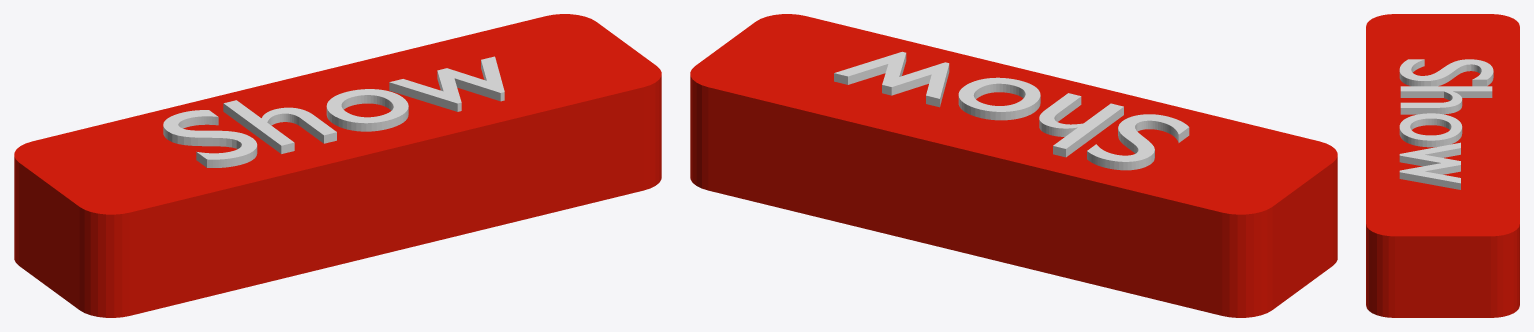
File: show_button.fbx
3 renders of one model, left to right at view 1: azimuth 30°, elevation 25°; view 2: azimuth 150°, elevation 25°; view 3: azimuth 270°, elevation 25°, orthographic. The views are drawn at different scales.
Visible parts, largest first — view 1: Cube.001; view 2: Cube.001; view 3: Cube.001.
Part boxes in pixels (<box>): Cube.001: <box>14,14,661,317</box>; Cube.001: <box>690,14,1337,317</box>; Cube.001: <box>1366,14,1519,317</box>.
Bounding box in the file's own units: 112 × 20.82 × 32.85.
